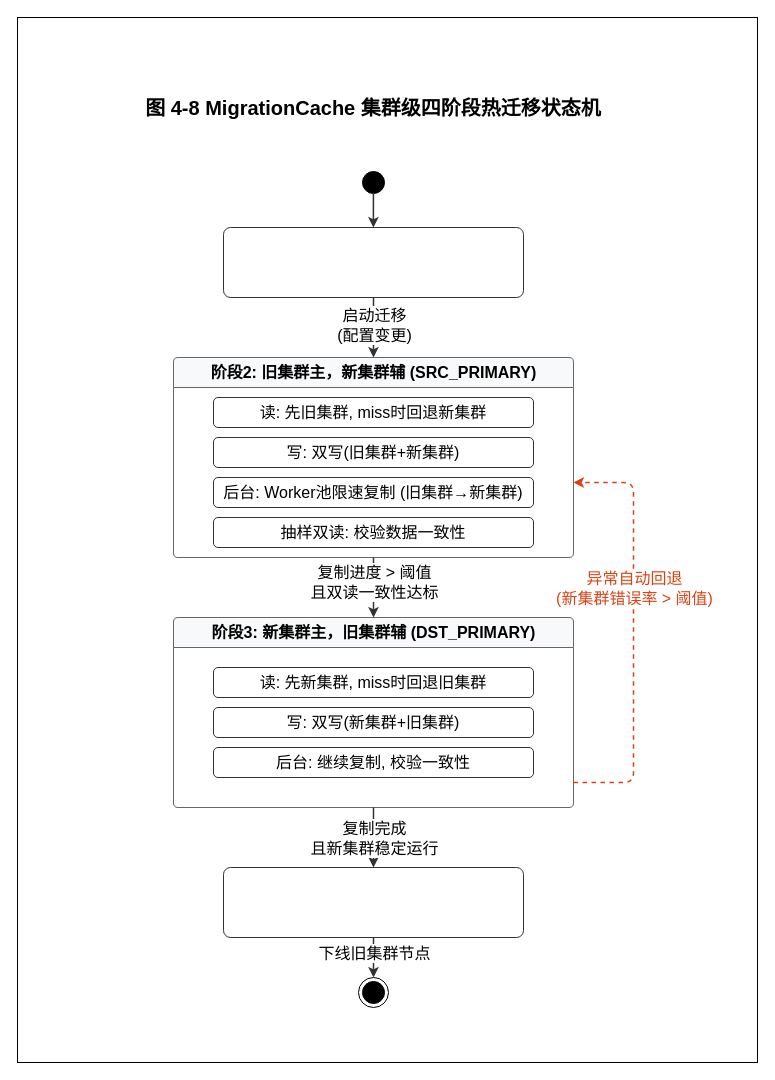
This 775x1080 diagram has some shape labels left out. Each missing label, with the box of its shape:
阶段1: 仅旧集群 (SRC_ONLY) 读旧缓存 写旧缓存: (222, 226, 524, 298)
阶段4: 仅新集群 (DST_ONLY) 读新缓存集群 写新缓存集群: (222, 866, 524, 938)
